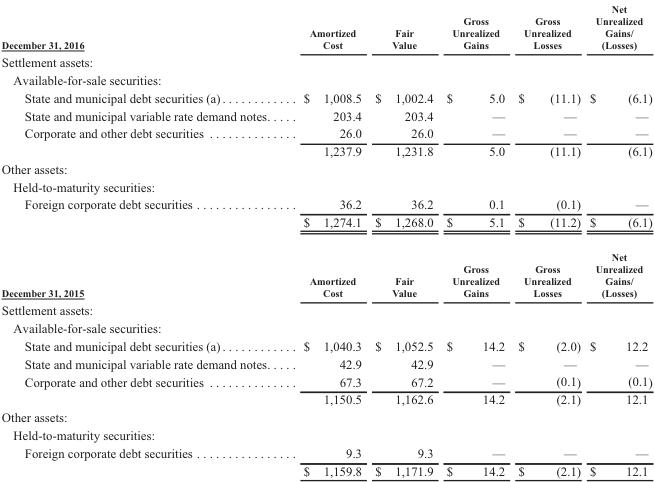table: (0, 1, 651, 478)
table column: (0, 1, 286, 478), (286, 1, 367, 478), (510, 1, 584, 478), (367, 1, 439, 478), (439, 1, 510, 478), (584, 1, 651, 478)
table column header: (0, 1, 651, 52)
table projected row header: (0, 52, 651, 70), (0, 70, 651, 88), (0, 159, 651, 177), (0, 300, 651, 318), (0, 318, 651, 336), (0, 407, 651, 425), (0, 425, 651, 443), (0, 177, 651, 194)
table row: (0, 239, 651, 300), (0, 1, 651, 52), (0, 212, 651, 239), (0, 52, 651, 70), (0, 70, 651, 88), (0, 88, 651, 106), (0, 106, 651, 124), (0, 141, 651, 159), (0, 159, 651, 177), (0, 194, 651, 212), (0, 300, 651, 318), (0, 318, 651, 336), (0, 336, 651, 354), (0, 354, 651, 372), (0, 389, 651, 407), (0, 407, 651, 425), (0, 425, 651, 443), (0, 443, 651, 461), (0, 124, 651, 141), (0, 177, 651, 194), (0, 372, 651, 389), (0, 461, 651, 478)
